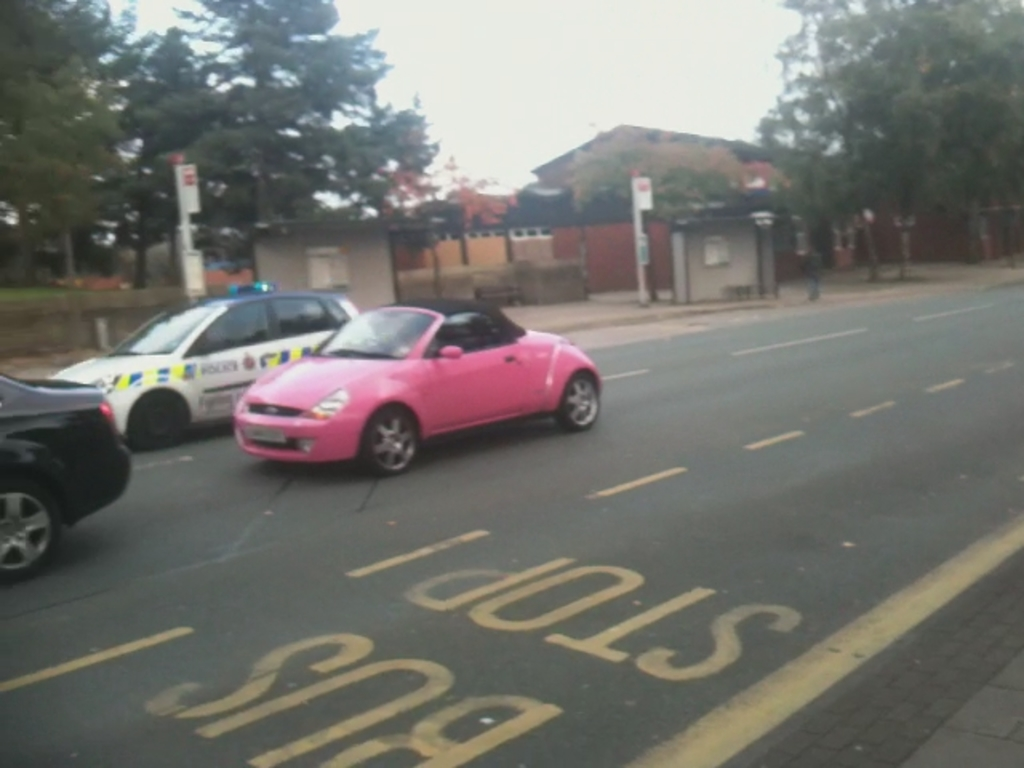mobil: (232, 293, 604, 492)
